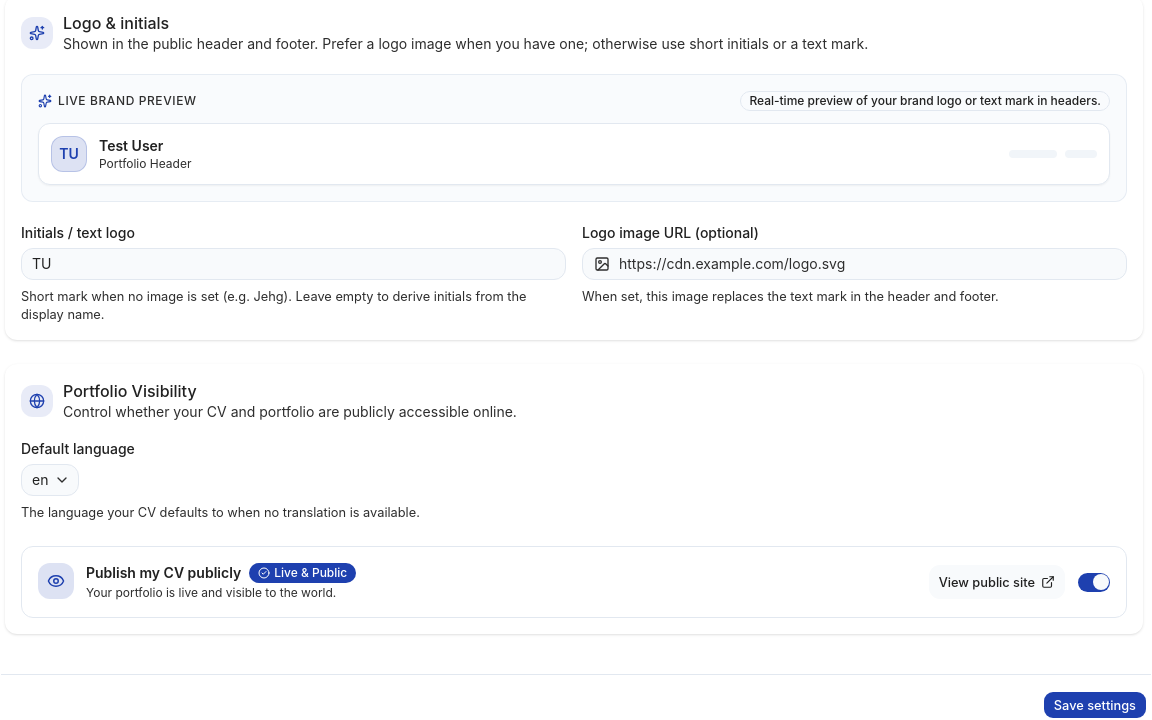
Test: SettingsForm › handles successful submission
The image size is (1152, 720).
(page scrolled)
Step 1. Click the button "Save settings" → (1095,705), box 1043,691 -> 1147,719
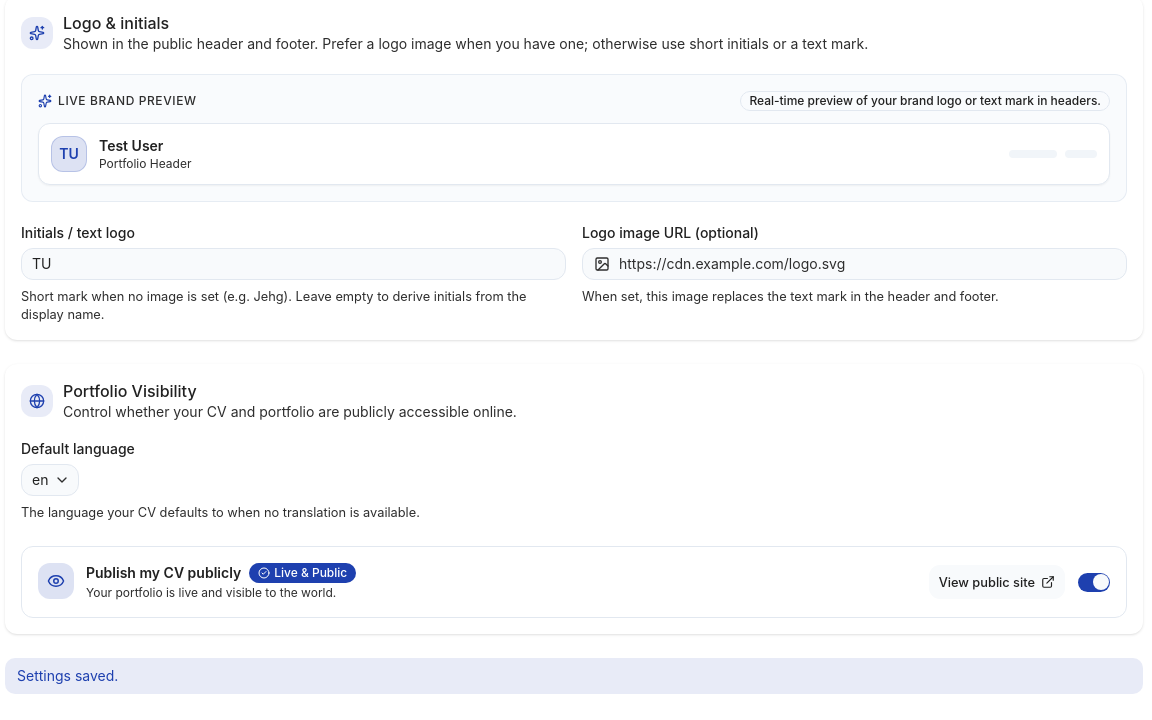
Expected: the text "Settings saved." is shown, 5,658 -> 1143,694
